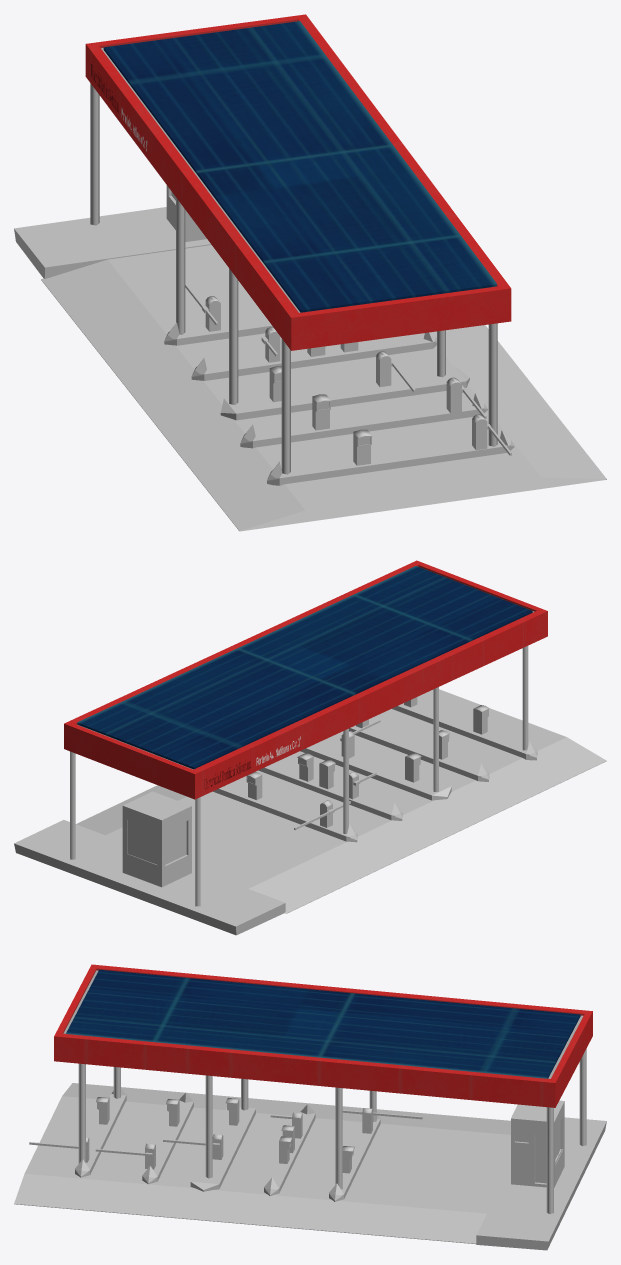
The model's file is porte nutibara vehicular lod 0.fbx.
The picture shows the model from 3 angles, top to bottom: view 1: azimuth 30°, elevation 25°; view 2: azimuth 150°, elevation 25°; view 3: azimuth 270°, elevation 25°; orthographic projection. The views are drawn at different scales.
Parts seen in each view (by area): view 1: Porteria nutivara vehicular lod 0, Porteria nutibara vehicular techo lod 0; view 2: Porteria nutivara vehicular lod 0, Porteria nutibara vehicular techo lod 0; view 3: Porteria nutivara vehicular lod 0, Porteria nutibara vehicular techo lod 0.
Part boxes in pixels (box(x1,y1,x2,y2)): Porteria nutivara vehicular lod 0: box(14, 83, 606, 531); Porteria nutibara vehicular techo lod 0: box(85, 14, 511, 350); Porteria nutivara vehicular lod 0: box(14, 646, 606, 935); Porteria nutibara vehicular techo lod 0: box(64, 560, 547, 799); Porteria nutivara vehicular lod 0: box(14, 1049, 606, 1250); Porteria nutibara vehicular techo lod 0: box(54, 964, 592, 1107).
Bounding box in the file's own units: 2230 × 883 × 3329.
